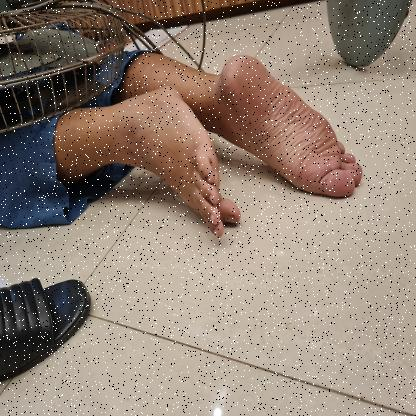leg: (128, 45, 366, 201), (62, 80, 245, 248)
